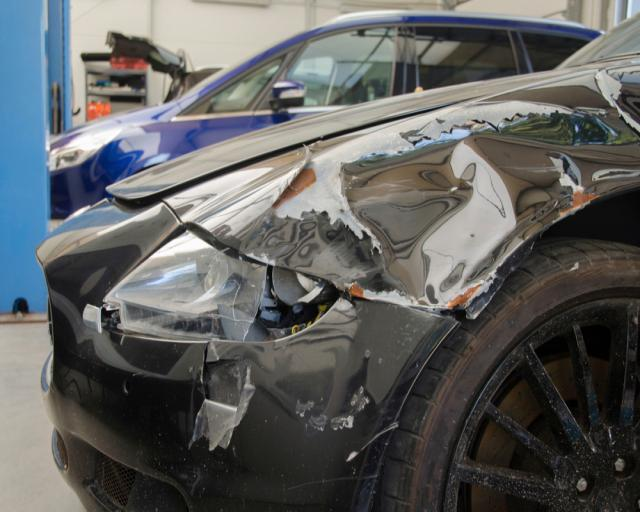crack: (202, 341, 243, 402)
dent: (241, 103, 640, 309)
lamp broken: (105, 231, 343, 341)
scratch: (293, 383, 370, 438)
